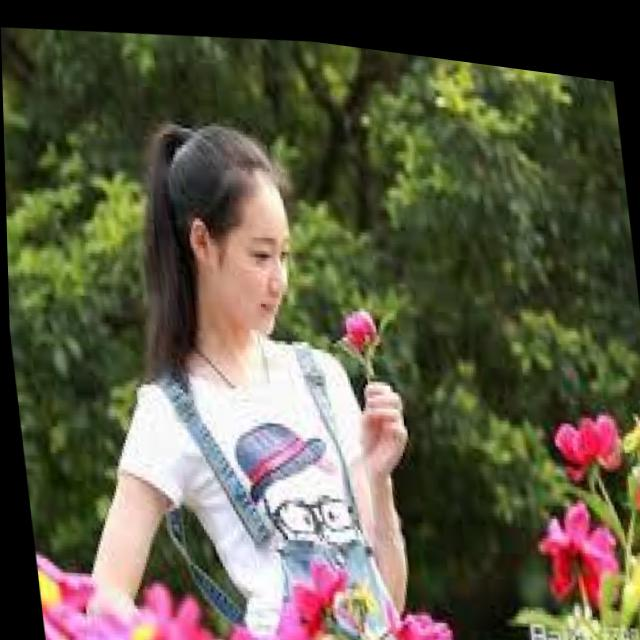Flower: (242, 507, 337, 640), (530, 476, 617, 564), (541, 389, 630, 471), (325, 565, 372, 636), (338, 295, 390, 357), (397, 593, 462, 640)
